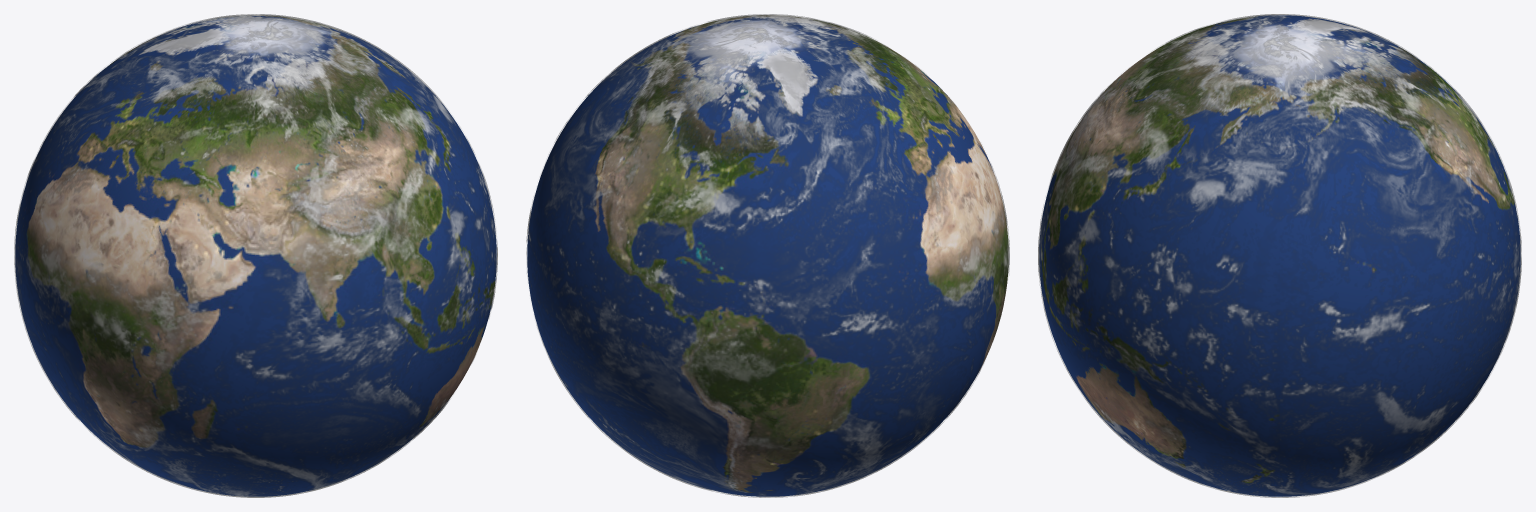
The model's file is planet_earth_1.glb.
The picture shows the model from 3 angles, left to right: view 1: azimuth 30°, elevation 25°; view 2: azimuth 150°, elevation 25°; view 3: azimuth 270°, elevation 25°; orthographic projection.
Visible parts, largest first — view 1: Object_2, Object_3; view 2: Object_2, Object_3; view 3: Object_2, Object_3.
Boxes of the visible parts, left/top/right/bottom form: Object_2: left=15, top=15, right=496, bottom=496; Object_3: left=14, top=14, right=497, bottom=497; Object_2: left=527, top=15, right=1008, bottom=496; Object_3: left=526, top=14, right=1009, bottom=497; Object_2: left=1039, top=15, right=1520, bottom=496; Object_3: left=1038, top=14, right=1521, bottom=497.
Size of the model in its own units: 0.2454 by 0.2454 by 0.2453.
Materials: 2 (2 with a texture image).
